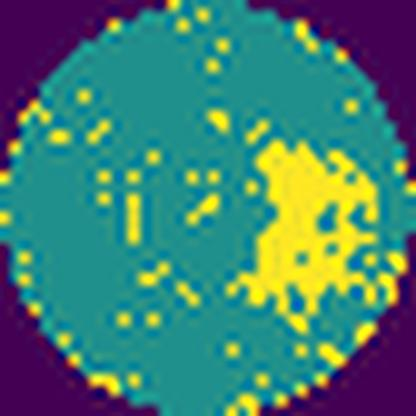Loc: (231, 140, 377, 326)
